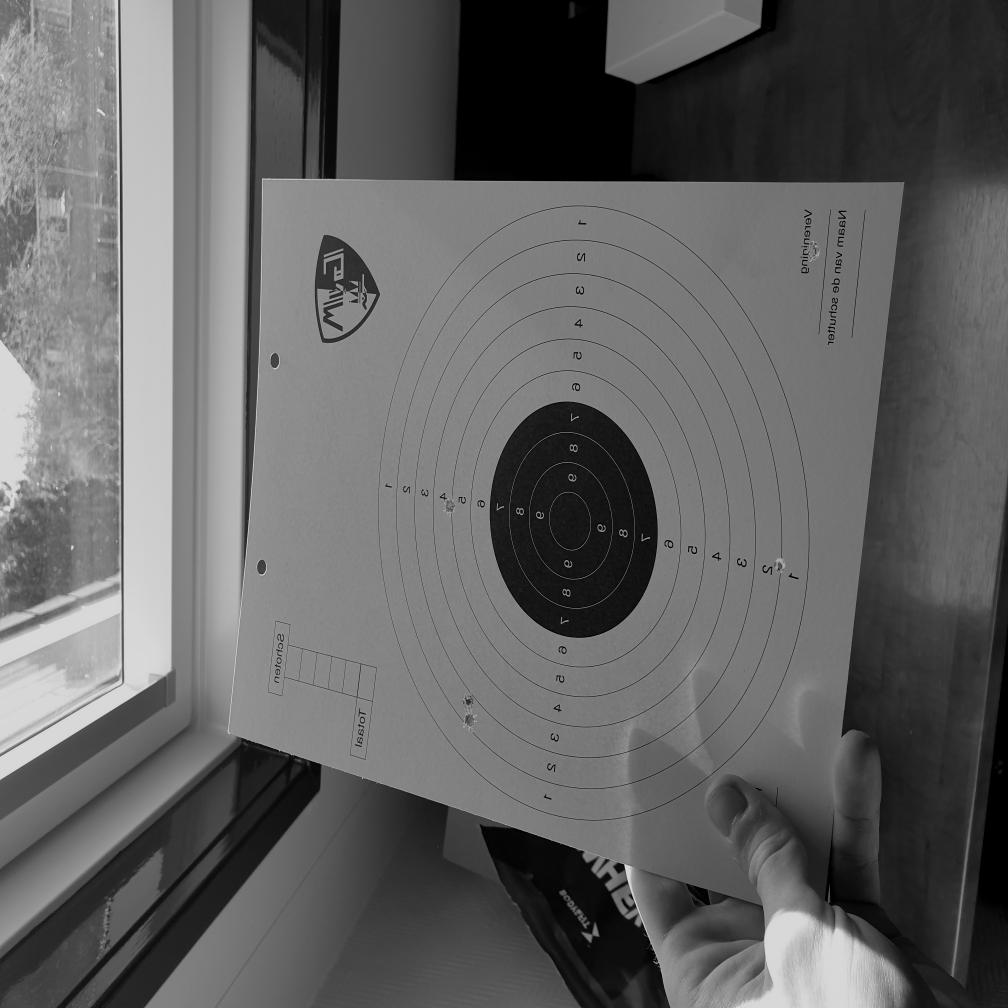0: (806, 241, 820, 262)
2: (463, 712, 476, 732), (774, 557, 786, 574)
3: (462, 690, 474, 711)
5: (443, 498, 456, 516)
Target: (377, 205, 811, 825)
black_contour: (489, 402, 657, 638)
